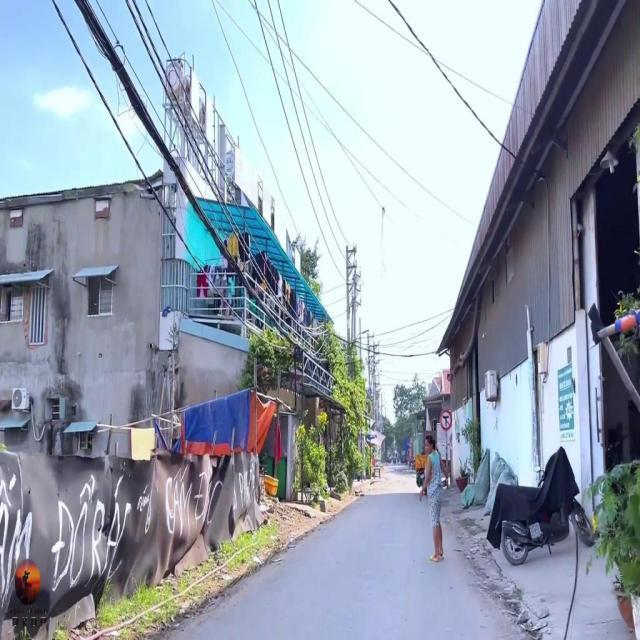137-cam-re-trai-va-re-phai: (440, 410, 452, 430)
